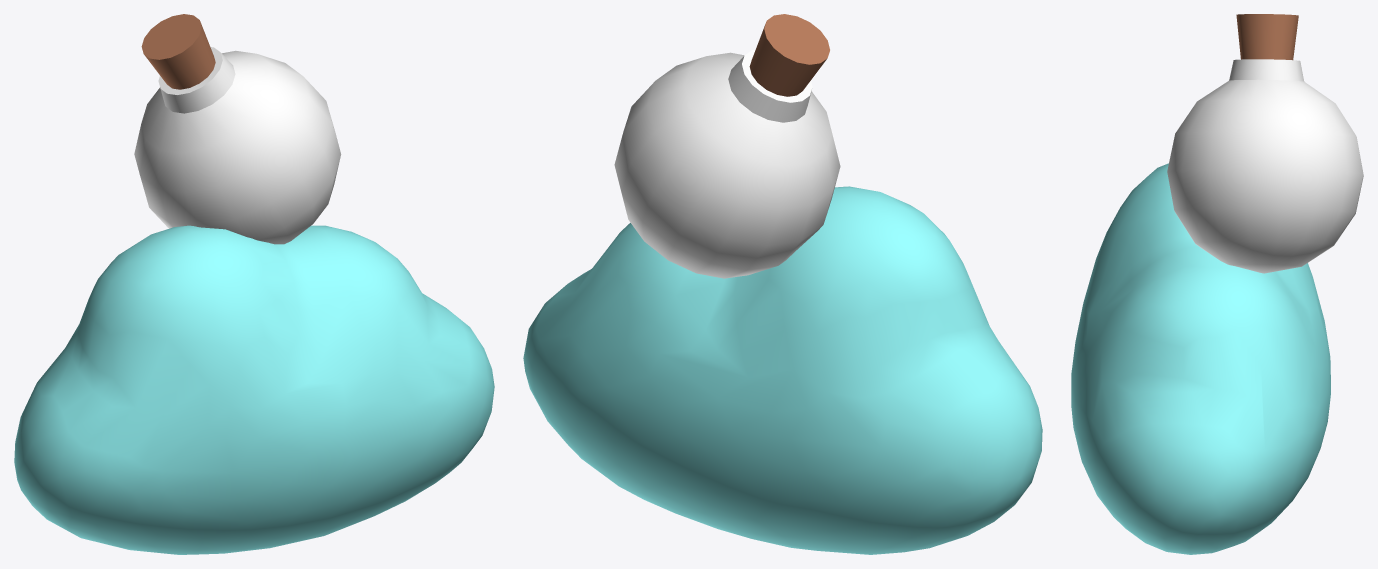
The model's file is Item_Healing Low.FBX.
3 renders of one model, left to right at view 1: azimuth 30°, elevation 25°; view 2: azimuth 150°, elevation 25°; view 3: azimuth 270°, elevation 25°, orthographic. The views are drawn at different scales.
Parts seen in each view (by area): view 1: Item_Healing Low, Item_Healing Low object; view 2: Item_Healing Low, Item_Healing Low object; view 3: Item_Healing Low, Item_Healing Low object.
Boxes of the visible parts, x1,y1,x2,y2 form: Item_Healing Low: (14,225,494,554); Item_Healing Low object: (134,14,341,244); Item_Healing Low: (523,186,1042,554); Item_Healing Low object: (614,14,840,278); Item_Healing Low: (1071,163,1330,554); Item_Healing Low object: (1167,14,1363,273).
Bounding box in the file's own units: 114 × 119 × 65.42.
